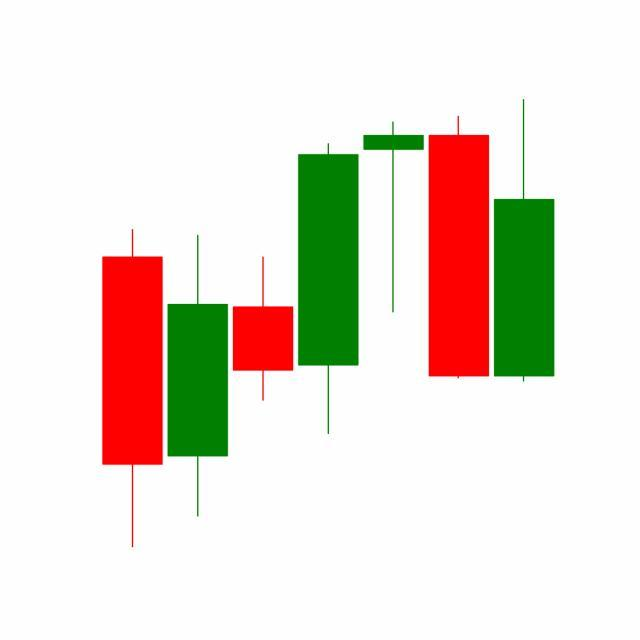Evening Doji Star: (295, 112, 492, 438)
